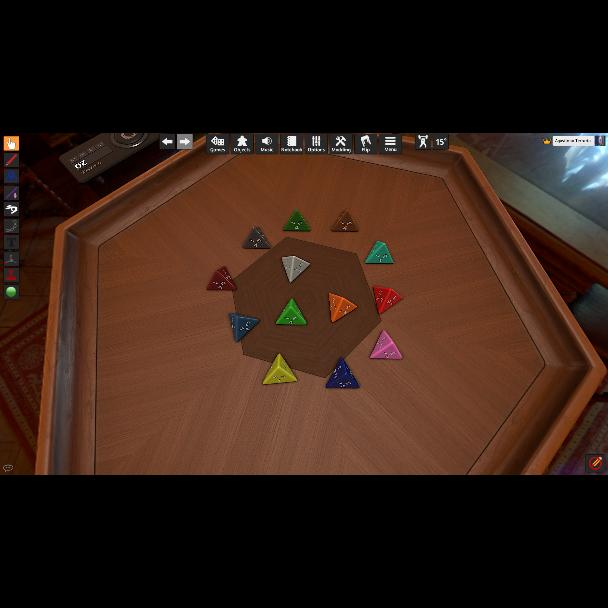d4: (263, 354, 297, 384), (326, 358, 358, 388), (370, 330, 401, 360), (229, 312, 259, 342), (276, 298, 306, 326), (328, 294, 356, 322), (373, 286, 401, 314), (281, 255, 309, 282), (364, 241, 394, 265), (207, 266, 235, 290), (242, 227, 270, 249), (284, 210, 310, 232), (332, 210, 356, 232)
